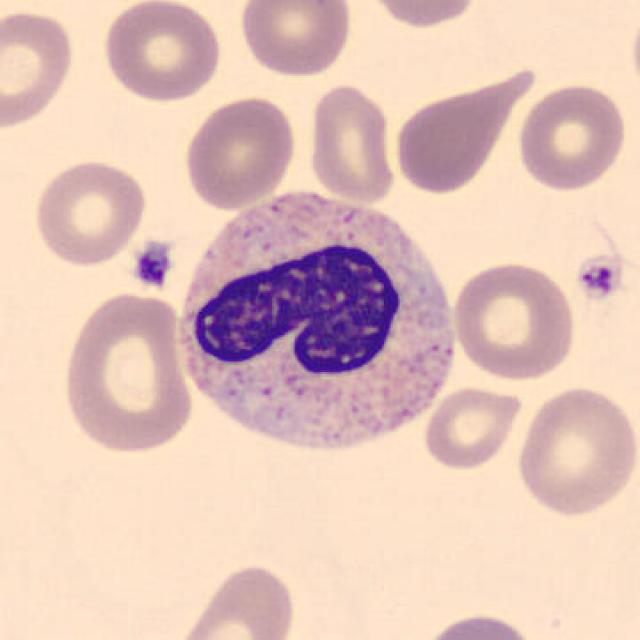Neutrophil: (171, 185, 464, 471)
Platelets: (572, 254, 626, 303), (130, 238, 174, 291)
RBC: (57, 287, 195, 457), (391, 66, 533, 198), (512, 383, 638, 520), (450, 258, 580, 384), (180, 92, 298, 212), (29, 155, 150, 270), (98, 0, 226, 104), (514, 79, 629, 194), (304, 81, 398, 206), (170, 559, 298, 640), (0, 6, 78, 132), (234, 0, 355, 79), (420, 382, 524, 472), (358, 0, 486, 32), (414, 610, 544, 640)
